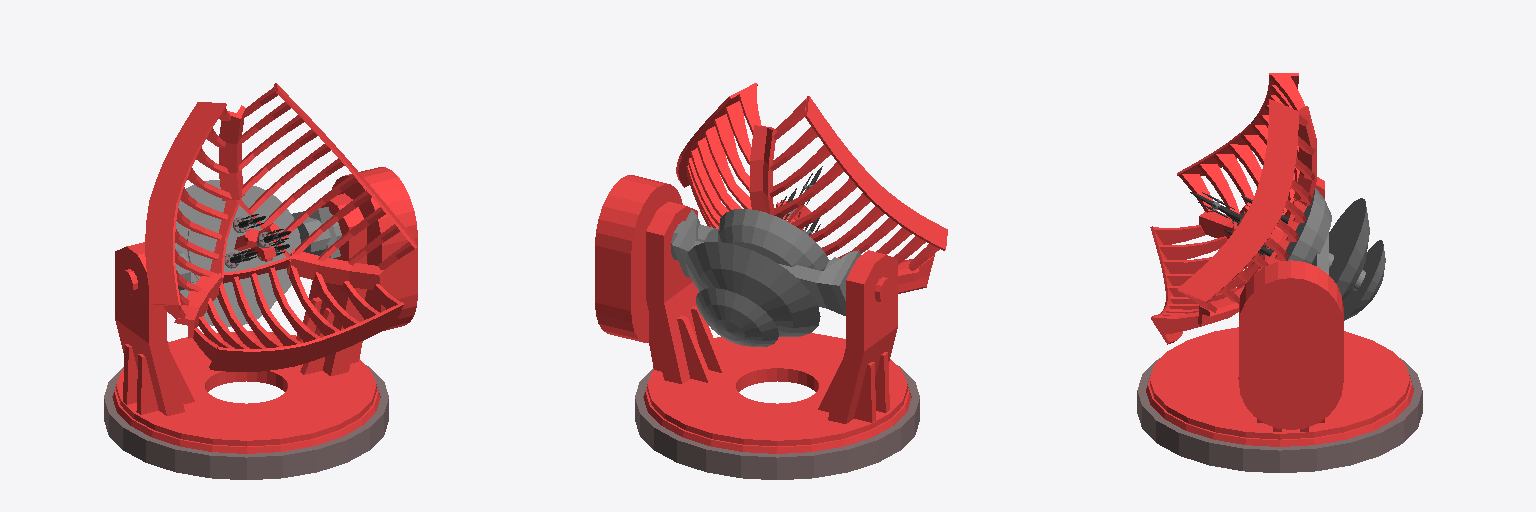
Rendered from JCLifter02Radar.obj.
The picture shows the model from 3 angles: view 1: azimuth 30°, elevation 25°; view 2: azimuth 150°, elevation 25°; view 3: azimuth 270°, elevation 25°; orthographic projection.
Visible parts, largest first — view 1: Sphere.004, Cube.115_Cube.020, Cube.113_Cube.020, Cube.114_Cube.020, Cylinder.024_Cylinder.008, Sphere.003; view 2: Sphere.004, Sphere.003, Cube.113_Cube.020, Cylinder.024_Cylinder.008, Cube.114_Cube.020, Cube.115_Cube.020; view 3: Sphere.004, Cube.114_Cube.020, Cylinder.024_Cylinder.008, Sphere.003, Cube.113_Cube.020, Cube.115_Cube.020.
Part boxes in pixels (left/top/right/bottom): Sphere.004: left=113, top=167, right=417, bottom=453; Cube.115_Cube.020: left=193, top=105, right=403, bottom=371; Cube.113_Cube.020: left=145, top=102, right=387, bottom=318; Cube.114_Cube.020: left=174, top=83, right=416, bottom=338; Cylinder.024_Cylinder.008: left=104, top=365, right=388, bottom=479; Sphere.003: left=175, top=180, right=341, bottom=327; Sphere.004: left=595, top=175, right=910, bottom=453; Sphere.003: left=671, top=209, right=860, bottom=346; Cube.113_Cube.020: left=770, top=96, right=947, bottom=270; Cylinder.024_Cylinder.008: left=635, top=365, right=919, bottom=479; Cube.114_Cube.020: left=676, top=83, right=918, bottom=283; Cube.115_Cube.020: left=749, top=125, right=934, bottom=293; Sphere.004: left=1146, top=177, right=1413, bottom=446; Cube.114_Cube.020: left=1177, top=99, right=1314, bottom=312; Cylinder.024_Cylinder.008: left=1137, top=358, right=1422, bottom=472; Sphere.003: left=1270, top=188, right=1385, bottom=320; Cube.113_Cube.020: left=1177, top=73, right=1305, bottom=326; Cube.115_Cube.020: left=1150, top=106, right=1316, bottom=344.
Bounding box in the file's own units: 1.56 × 1.74 × 1.36.